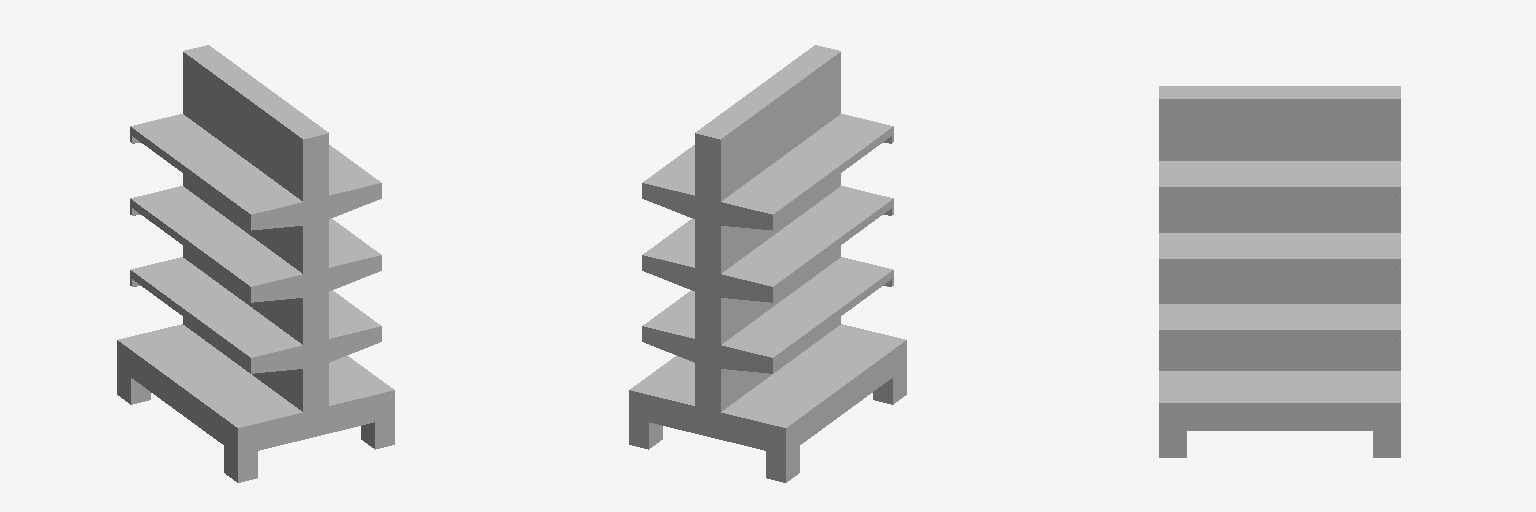
File: shelf.obj
The picture shows the model from 3 angles: view 1: azimuth 30°, elevation 25°; view 2: azimuth 150°, elevation 25°; view 3: azimuth 270°, elevation 25°; orthographic projection.
Visible parts, largest first — view 1: pCube3; view 2: pCube3; view 3: pCube3.
Part boxes in pixels (left/top/right/bottom): pCube3: left=117, top=45, right=394, bottom=482; pCube3: left=629, top=45, right=906, bottom=482; pCube3: left=1159, top=86, right=1400, bottom=457.
Bounding box in the file's own units: 4.46 × 8.91 × 5.95.